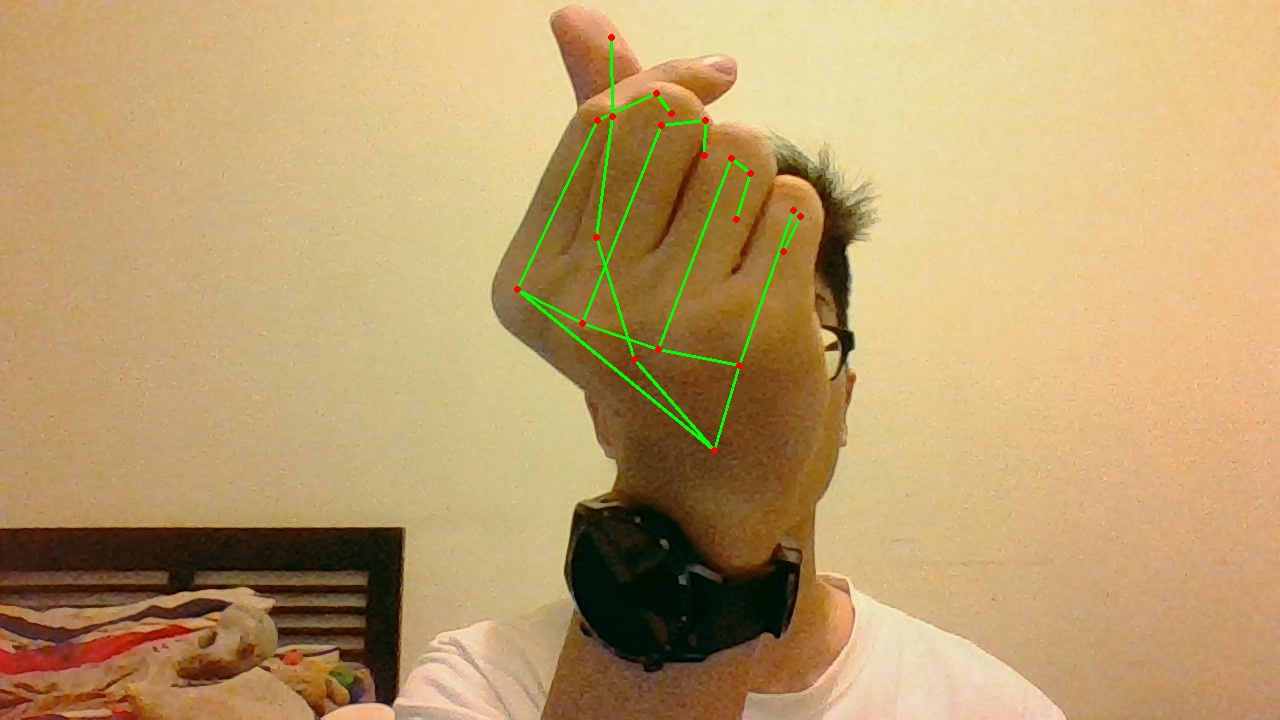I Love You: (489, 9, 817, 473)
